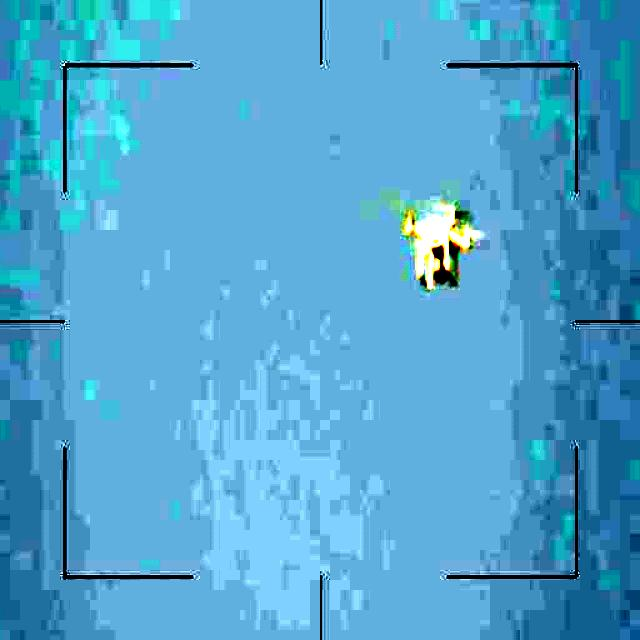bird: (398, 204, 478, 294)
